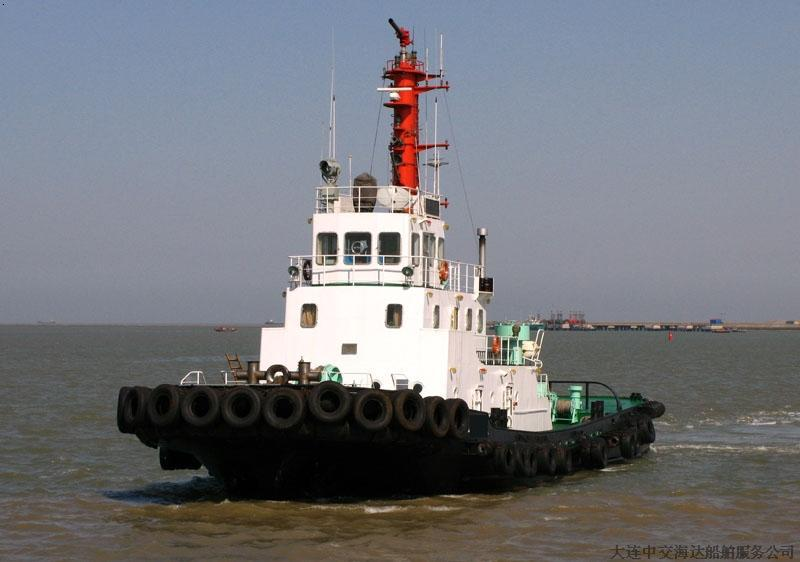otherboat: (111, 77, 659, 515)
